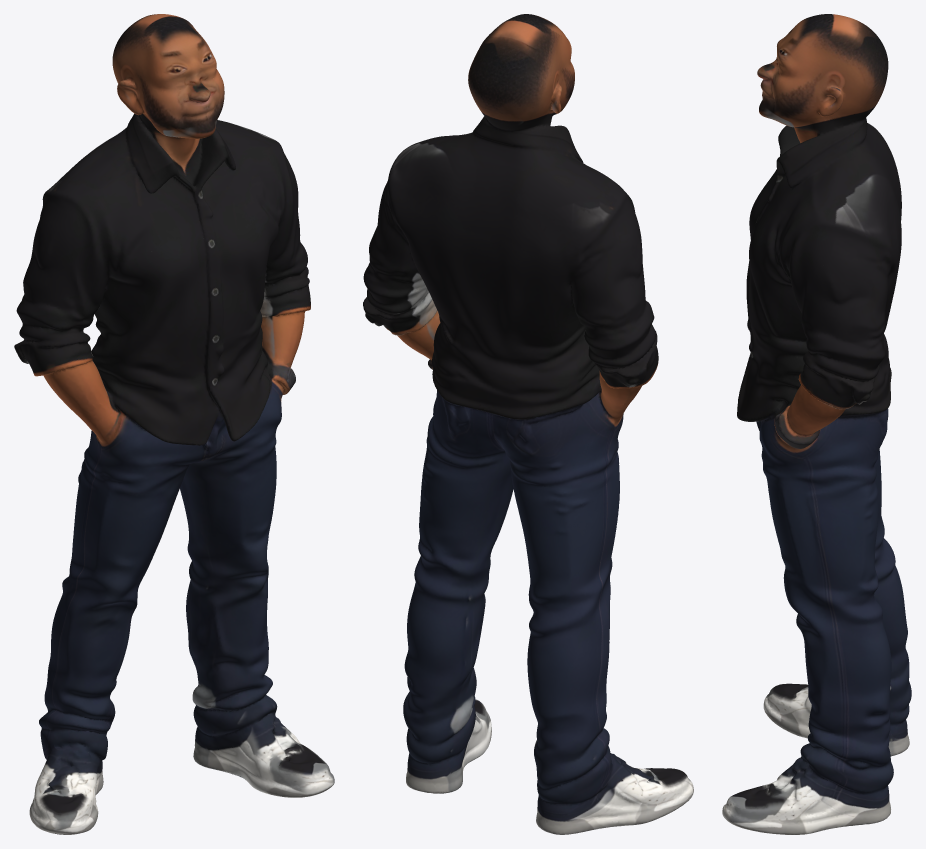
File: robert.glb
3 views of the same model, side by side, from view 1: azimuth 30°, elevation 25°; view 2: azimuth 150°, elevation 25°; view 3: azimuth 270°, elevation 25° (orthographic).
Parts seen in each view (by area): view 1: tripo_node_4a861657-86ae-4189-8698-5def022a1f1e; view 2: tripo_node_4a861657-86ae-4189-8698-5def022a1f1e; view 3: tripo_node_4a861657-86ae-4189-8698-5def022a1f1e.
Part boxes in pixels (x1,y1,x2,y2): tripo_node_4a861657-86ae-4189-8698-5def022a1f1e: (14, 14, 334, 834); tripo_node_4a861657-86ae-4189-8698-5def022a1f1e: (363, 14, 693, 834); tripo_node_4a861657-86ae-4189-8698-5def022a1f1e: (722, 14, 911, 834).
Bounding box in the file's own units: 0.3965 × 1 × 0.2258.
1 material, 1 textured.
